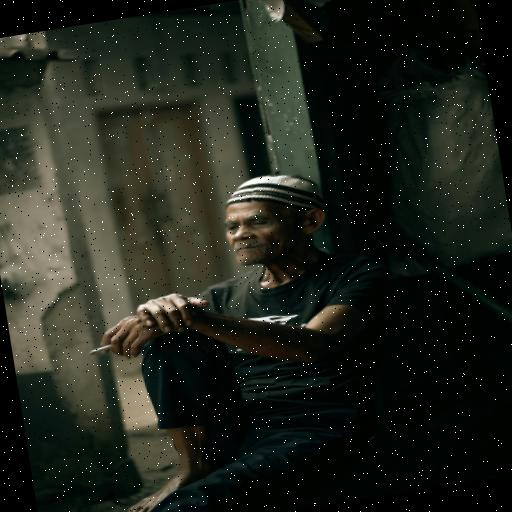terdeteksi pegang rokok: (78, 303, 162, 380)
